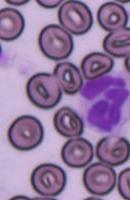N: (78, 70, 130, 138)
